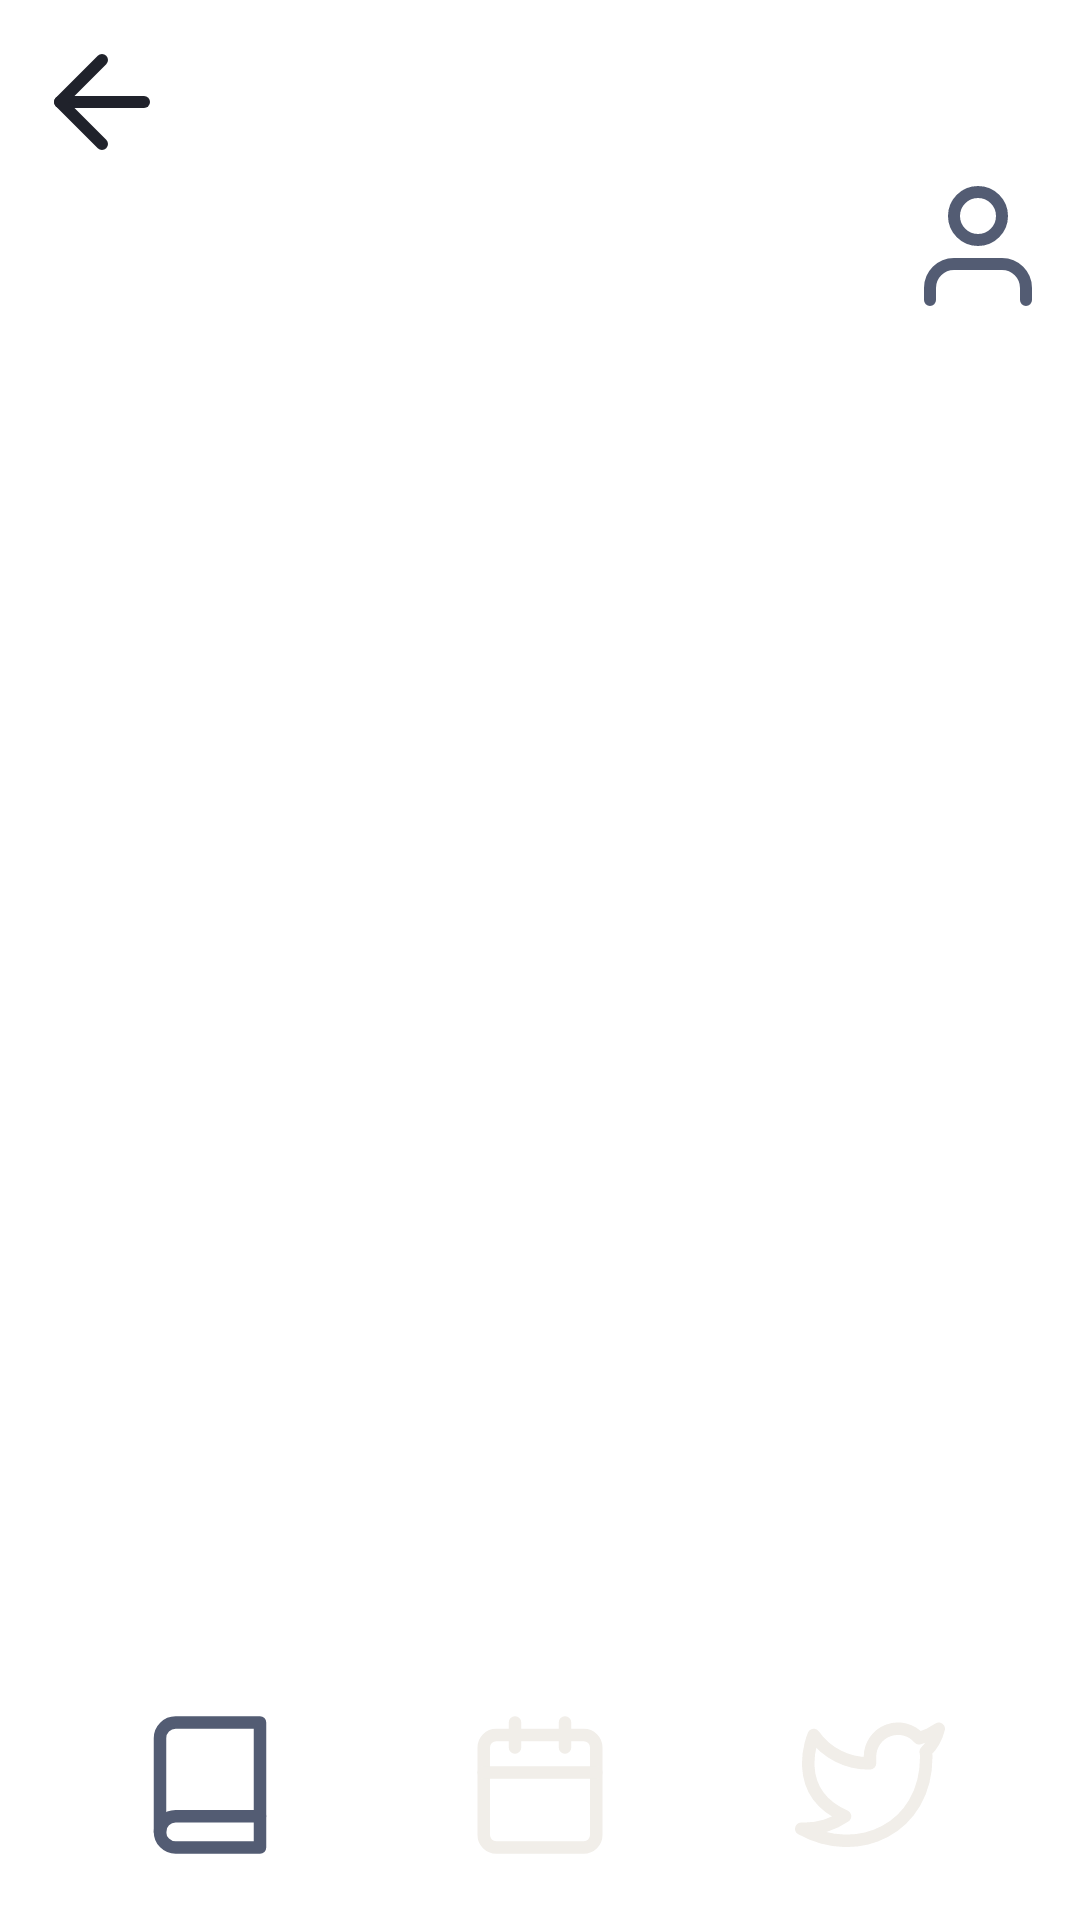

Where icons sit on this 1080 x 1920 app screen, as bbox=(x1, y1, x2, y2):
arrow left: bbox=(54, 54, 150, 150)
Go to User Account Page: bbox=(924, 186, 1032, 306)
Go to User Diary Page: bbox=(153, 1716, 267, 1854)
